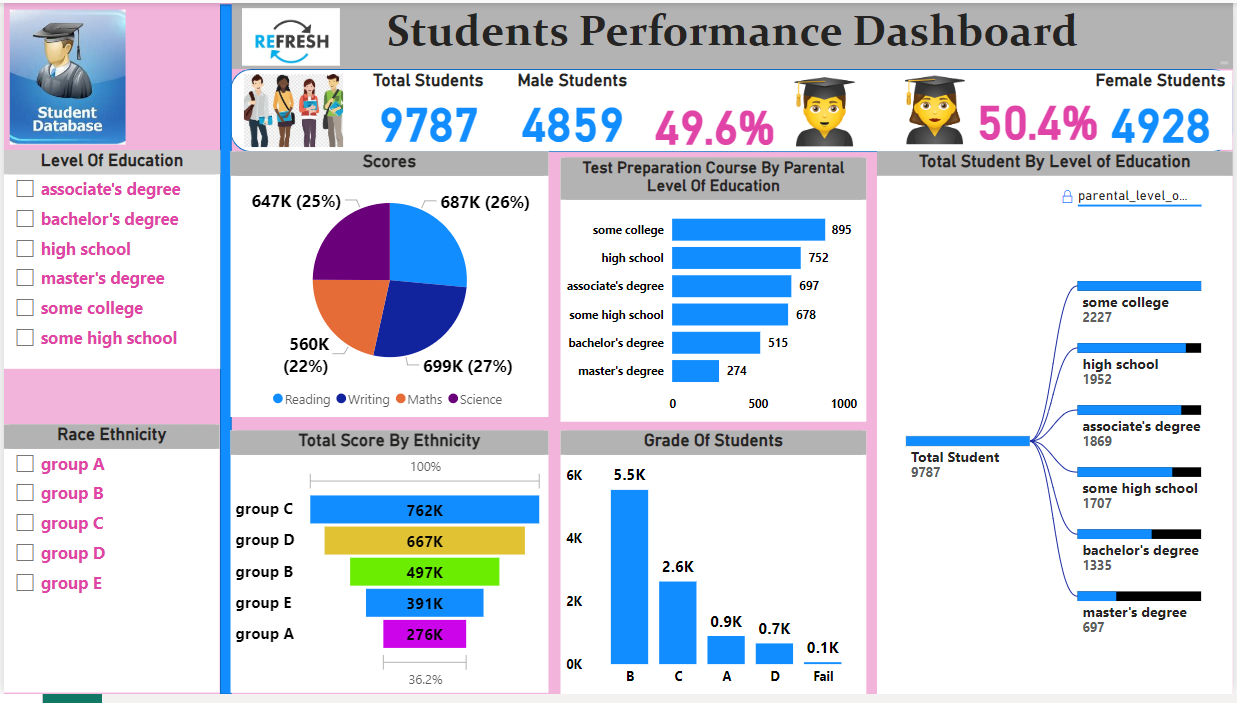

The page's visual inventory and layout, read from the dashboard file:
{"tool":"powerbi","page":{"name":"Page 1","canvas":[1280,720],"ordinal":0},"visuals":[{"type":"shape","box":[236.3,69.3,1044.3,86.6],"z":0},{"type":"image","box":[236.3,69.3,130.7,86.6],"z":1000},{"type":"card","title":"Total Students","fields":{"Values":["Student_performance_10ktask.Total_student"]},"box":[367,70.9,149.6,81.9],"z":2000},{"type":"image","box":[798.2,71.5,113.2,85.4],"z":3000},{"type":"image","box":[911.4,70.9,117.5,85.1],"z":4000},{"type":"card","title":"Male Students","fields":{"Values":["Student_performance_10ktask.Male_Student"]},"box":[516.6,70.9,149.6,81.9],"z":5000},{"type":"card","title":"Female Students","fields":{"Values":["Student_performance_10ktask.Female_Student"]},"box":[1130,70.3,150,82.8],"z":6000},{"type":"card","fields":{"Values":["Student_performance_10ktask.Male%"]},"box":[665.2,95.3,148.9,57.6],"z":7000},{"type":"card","fields":{"Values":["Student_performance_10ktask.Female%"]},"box":[998.6,86.6,154.4,64.6],"z":8000},{"type":"textbox","title":"Students Performance Dashboard","box":[237,0,1043,68.9],"z":9000},{"type":"shape","box":[224.8,2,12.2,719],"z":10000},{"type":"clusteredColumnChart","title":"Grade Of Students","fields":{"Y":["CountNonNull(Student_performance_10ktask.roll_no)"],"Category":["Student_performance_10ktask.grade"]},"box":[579.9,445.5,318.8,275.1],"z":11000},{"type":"funnel","title":"Total Score By Ethnicity","fields":{"Category":["Student_performance_10ktask.race_ethnicity"],"Y":["Sum(Student_performance_10ktask.total_score)"]},"box":[236,445.5,331.4,273.5],"z":12000},{"type":"pieChart","title":"Scores","fields":{"Y":["Sum(Student_performance_10ktask.reading_score)","Sum(Student_performance_10ktask.writing_score)","Sum(Student_performance_10ktask.math_score)","Sum(Student_performance_10ktask.science_score)"]},"box":[236,154.7,331.4,276.6],"z":13000},{"type":"slicer","title":"Level Of Education","fields":{"Values":["Student_performance_10ktask.parental_level_of_education"]},"box":[0,153.2,225.1,228.2],"z":14000},{"type":"clusteredBarChart","title":"Test Preparation Course By Parental Level Of Education","fields":{"Category":["Student_performance_10ktask.parental_level_of_education"],"Y":["Sum(Student_performance_10ktask.test_preparation_course)"]},"box":[579.9,161,318.8,275.1],"z":15000},{"type":"slicer","title":"Race Ethnicity","fields":{"Values":["Student_performance_10ktask.race_ethnicity"]},"box":[0,439.5,224.8,279.5],"z":16000},{"type":"image","box":[0,1.6,132.3,151.2],"z":17000},{"type":"image","box":[231.3,0,136,70.3],"z":18000},{"type":"decompositionTreeVisual","title":"Total Student By Level of Education ","fields":{"ExplainBy":["Student_performance_10ktask.parental_level_of_education"],"Analyze":["CountNonNull(Student_performance_10ktask.roll_no)"]},"box":[909.7,154.7,370.4,565.8],"z":19000}]}

Visuals, with their boxes in screenshot pixels (x1, y1, x2, y2), scaled from the page's 1280x720 canvas onto the 1237x703 screenshot:
shape: [228, 68, 1236, 152]
image: [228, 68, 355, 152]
"Total Students" card: [355, 69, 499, 149]
image: [771, 70, 881, 153]
image: [881, 69, 994, 152]
"Male Students" card: [499, 69, 644, 149]
"Female Students" card: [1092, 69, 1236, 149]
card - Student_performance_10ktask.Male%: [643, 93, 787, 149]
card - Student_performance_10ktask.Female%: [965, 85, 1114, 148]
"Students Performance Dashboard" textbox: [229, 0, 1236, 67]
shape: [217, 2, 229, 702]
"Grade Of Students" clusteredColumnChart: [560, 435, 869, 702]
"Total Score By Ethnicity" funnel: [228, 435, 548, 702]
"Scores" pieChart: [228, 151, 548, 421]
"Level Of Education" slicer: [0, 150, 218, 372]
"Test Preparation Course By Parental Level Of Education" clusteredBarChart: [560, 157, 869, 426]
"Race Ethnicity" slicer: [0, 429, 217, 702]
image: [0, 2, 128, 149]
image: [224, 0, 355, 69]
"Total Student By Level of Education " decompositionTreeVisual: [879, 151, 1236, 702]
